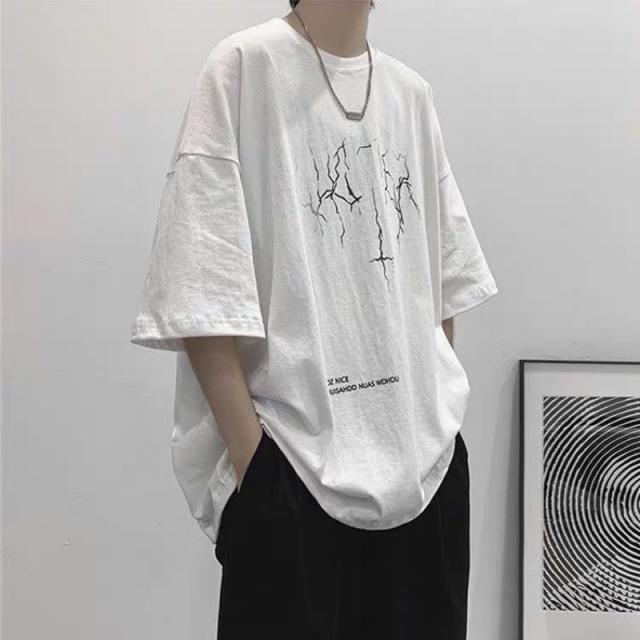Shirt: (138, 15, 498, 524)
